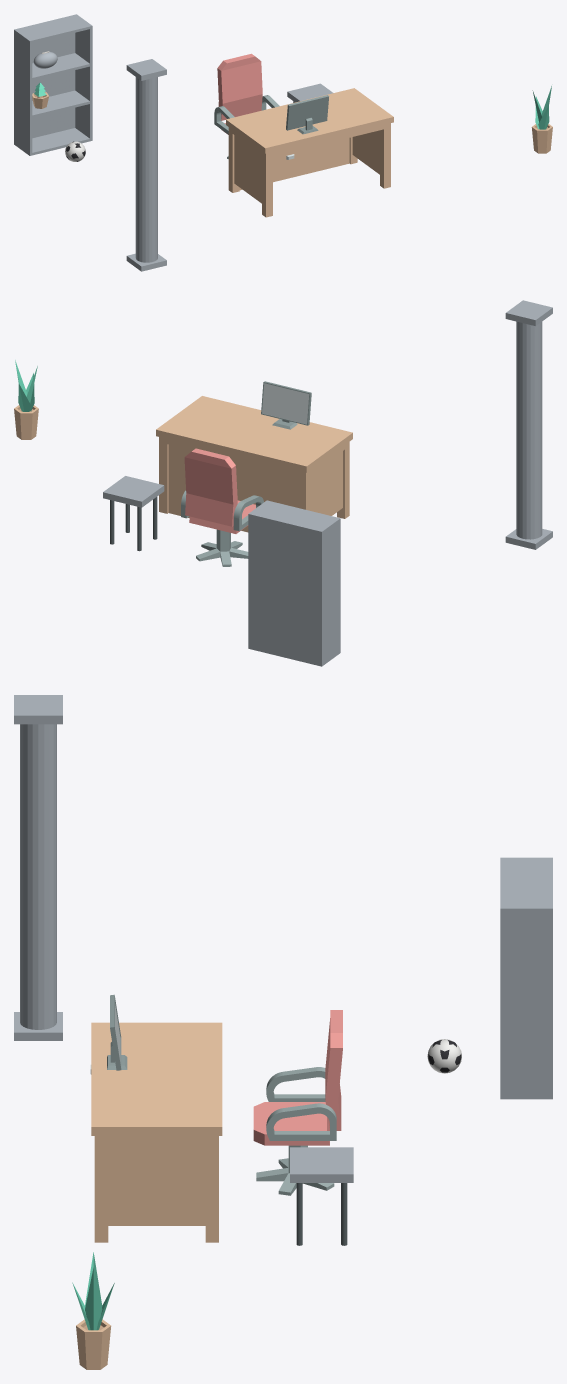
3 views of the same model, one above another, from view 1: azimuth 30°, elevation 25°; view 2: azimuth 150°, elevation 25°; view 3: azimuth 270°, elevation 25° (orthographic). The views are drawn at different scales.
Visible parts, largest first — view 1: desk_blue__desk(Clone), column_cyan__column_cyan shaft, deskchair_black__chair, shelf_orange__shelf_orange back, shelf_orange__shelf_orange side_l, shelf_orange__shelf_orange side_r, monitor_gray__computerScreen(Clone), shelf_orange__shelf_orange board3, shelf_orange__shelf_orange board0, shelf_orange__shelf_orange board1, shelf_orange__shelf_orange board2, column_cyan__column_cyan capital (+8 smaller); view 2: desk_blue__desk(Clone), shelf_orange__shelf_orange back, column_cyan__column_cyan shaft, deskchair_black__chair, shelf_orange__shelf_orange side_l, monitor_gray__computerScreen(Clone), stool_purple__stool_purple seat, shelf_orange__shelf_orange board3, deskchair_black__chairDesk(Clone), column_cyan__column_cyan capital, plant_pink__pottedPlant(Clone), shelf_orange__shelf_orange side_r (+2 smaller); view 3: desk_blue__desk(Clone), column_cyan__column_cyan shaft, shelf_orange__shelf_orange side_r, deskchair_black__chair, shelf_orange__shelf_orange board3, stool_purple__stool_purple seat, column_cyan__column_cyan capital, plant_pink__pottedPlant(Clone), plant_pink__plant, soccer_white__soccer_white, deskchair_black__chairDesk(Clone), monitor_gray__computerScreen(Clone) (+1 smaller).
Boxes of the visible parts, left/top/right/bottom form: desk_blue__desk(Clone): left=226, top=88, right=393, bottom=217; column_cyan__column_cyan shaft: left=135, top=77, right=157, bottom=262; deskchair_black__chair: left=214, top=53, right=279, bottom=134; shelf_orange__shelf_orange back: left=17, top=15, right=75, bottom=138; shelf_orange__shelf_orange side_l: left=14, top=29, right=32, bottom=155; shelf_orange__shelf_orange side_r: left=74, top=14, right=92, bottom=141; monitor_gray__computerScreen(Clone): left=286, top=95, right=328, bottom=134; shelf_orange__shelf_orange board3: left=18, top=15, right=89, bottom=42; shelf_orange__shelf_orange board0: left=32, top=128, right=89, bottom=155; shelf_orange__shelf_orange board1: left=32, top=90, right=89, bottom=117; shelf_orange__shelf_orange board2: left=32, top=53, right=89, bottom=80; column_cyan__column_cyan capital: left=126, top=59, right=166, bottom=80; desk_blue__desk(Clone): left=156, top=396, right=352, bottom=532; shelf_orange__shelf_orange back: left=251, top=514, right=319, bottom=665; column_cyan__column_cyan shaft: left=516, top=321, right=542, bottom=539; deskchair_black__chair: left=181, top=448, right=263, bottom=533; shelf_orange__shelf_orange side_l: left=319, top=517, right=340, bottom=666; monitor_gray__computerScreen(Clone): left=261, top=381, right=311, bottom=429; stool_purple__stool_purple seat: left=103, top=476, right=164, bottom=507; shelf_orange__shelf_orange board3: left=252, top=501, right=337, bottom=530; deskchair_black__chairDesk(Clone): left=196, top=529, right=248, bottom=566; column_cyan__column_cyan capital: left=505, top=300, right=552, bottom=326; plant_pink__pottedPlant(Clone): left=14, top=405, right=38, bottom=439; shelf_orange__shelf_orange side_r: left=248, top=500, right=269, bottom=649; desk_blue__desk(Clone): left=91, top=1022, right=222, bottom=1242; column_cyan__column_cyan shaft: left=20, top=724, right=56, bottom=1029; shelf_orange__shelf_orange side_r: left=500, top=906, right=552, bottom=1099; deskchair_black__chair: left=253, top=1010, right=342, bottom=1145; shelf_orange__shelf_orange board3: left=500, top=859, right=549, bottom=906; stool_purple__stool_purple seat: left=290, top=1147, right=353, bottom=1182; column_cyan__column_cyan capital: left=14, top=695, right=62, bottom=724; plant_pink__pottedPlant(Clone): left=76, top=1319, right=111, bottom=1369; plant_pink__plant: left=72, top=1252, right=114, bottom=1330; soccer_white__soccer_white: left=427, top=1039, right=461, bottom=1073; deskchair_black__chairDesk(Clone): left=256, top=1145, right=334, bottom=1195; monitor_gray__computerScreen(Clone): left=107, top=994, right=127, bottom=1070.
Size of the model in its own units: 5.3 by 2.28 by 3.42.
